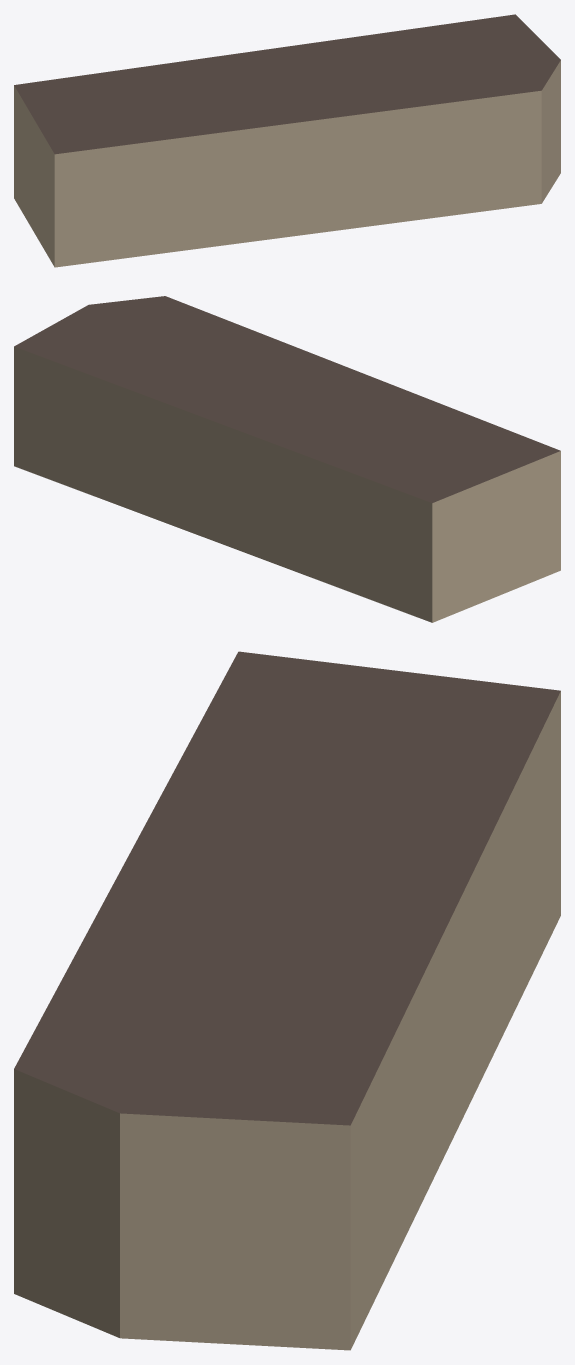
The picture shows the model from 3 angles, top to bottom: view 1: azimuth 30°, elevation 25°; view 2: azimuth 150°, elevation 25°; view 3: azimuth 270°, elevation 25°; orthographic projection. The views are drawn at different scales.
Parts seen in each view (by area): view 1: HP-w441877187; view 2: HP-w441877187; view 3: HP-w441877187.
Part boxes in pixels (bbox=[...]): HP-w441877187: bbox=[14, 14, 560, 267]; HP-w441877187: bbox=[14, 296, 560, 622]; HP-w441877187: bbox=[14, 651, 560, 1350].
Bounding box in the file's own units: 40.68 × 9 × 19.84.
